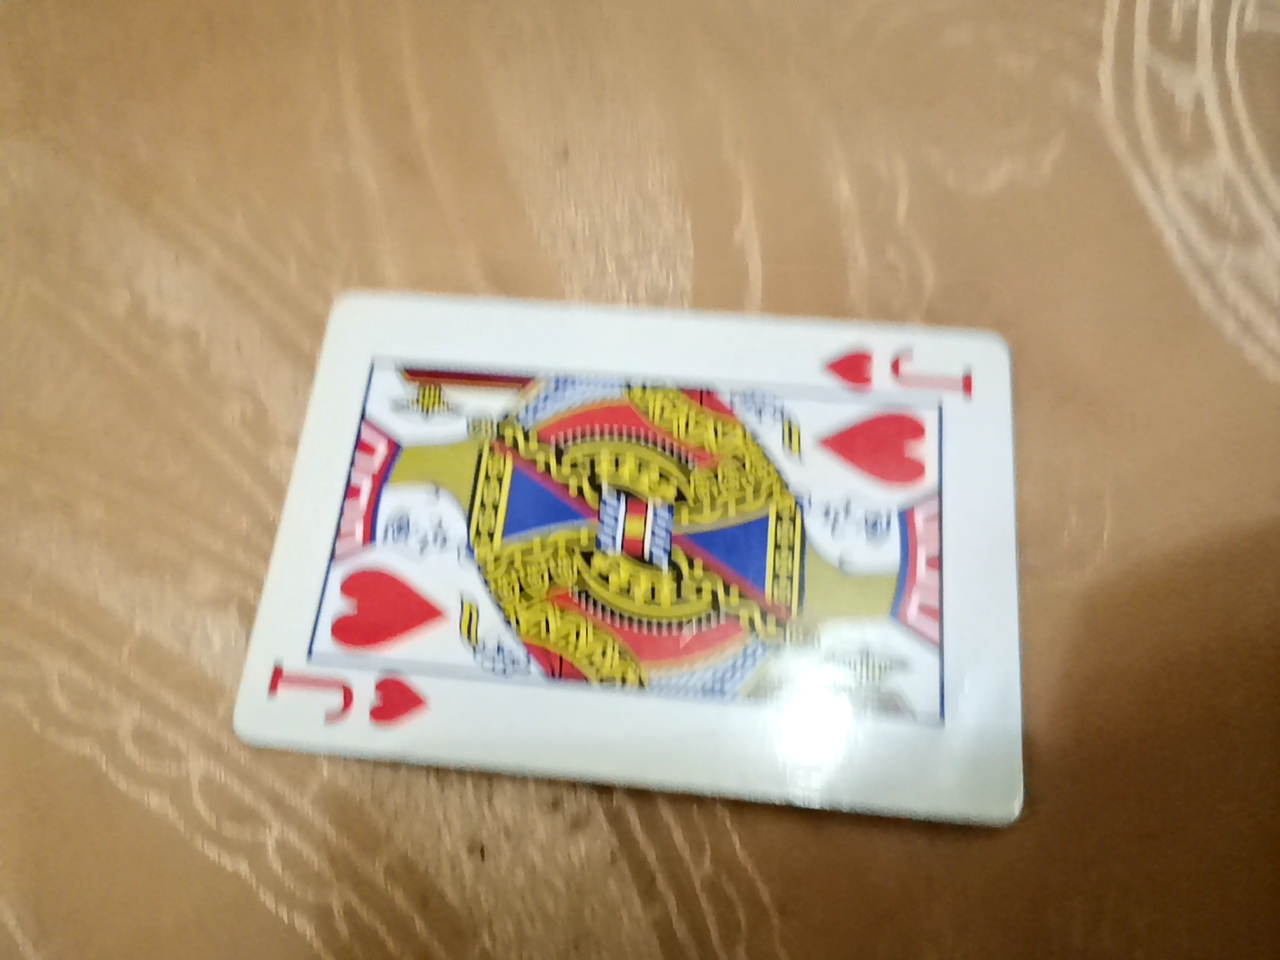hx j: (223, 6, 1025, 557)
